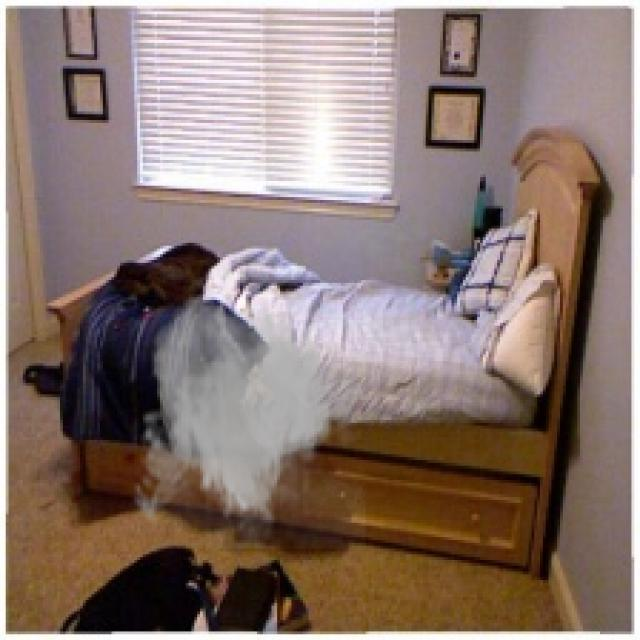Smoke: (126, 288, 366, 548)
